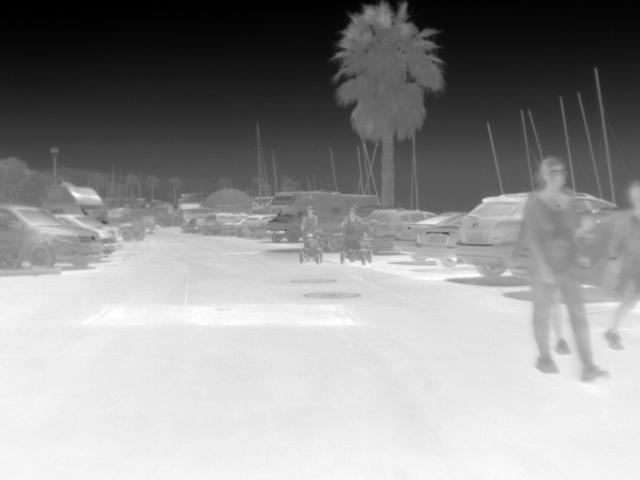car: (457, 192, 534, 280), (0, 204, 104, 268), (262, 189, 331, 243), (416, 212, 469, 269), (396, 213, 451, 264), (59, 213, 120, 257), (362, 209, 417, 254), (40, 184, 108, 219), (200, 212, 244, 236), (242, 214, 276, 238)
person: (520, 154, 610, 382), (604, 178, 639, 347), (339, 206, 369, 232), (299, 204, 320, 234)
